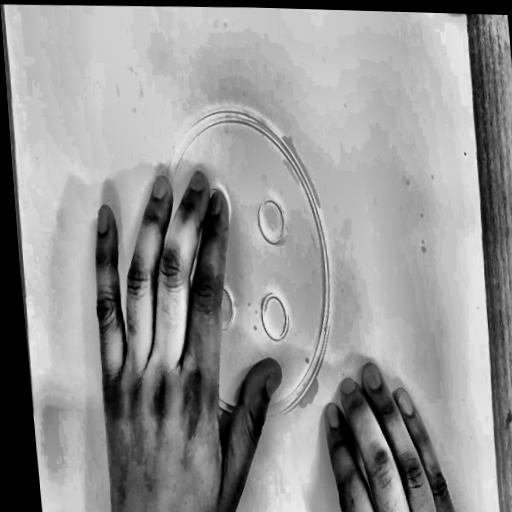button: (139, 88, 346, 447)
